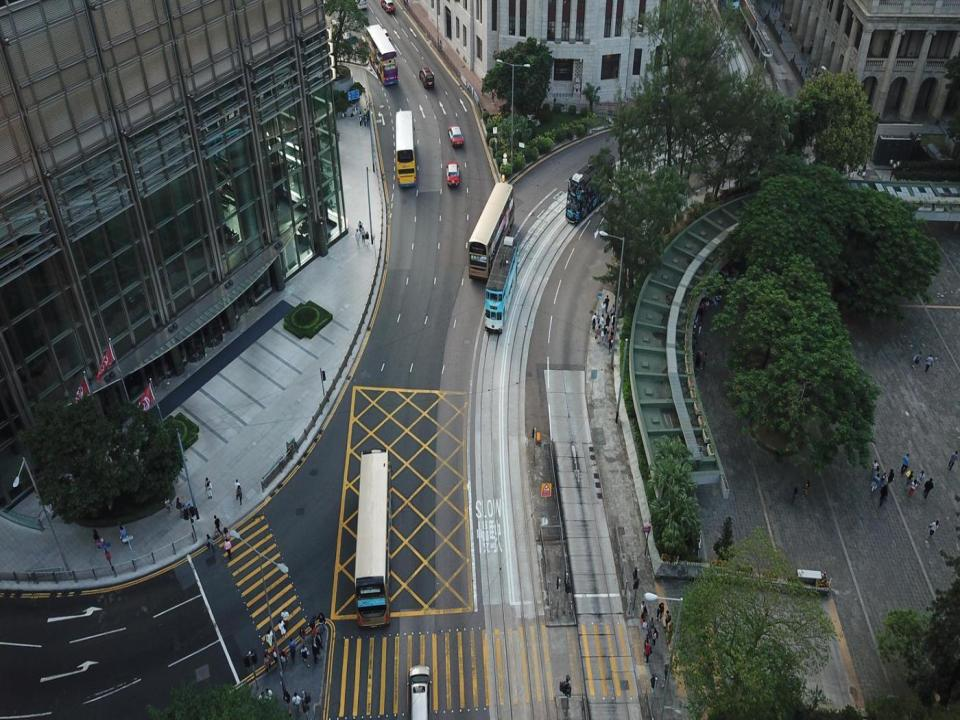bus: (355, 450, 390, 628), (468, 182, 514, 278), (485, 236, 518, 334), (568, 154, 614, 222), (366, 24, 398, 84), (395, 112, 416, 188)
car: (407, 663, 432, 719), (448, 124, 464, 147), (446, 161, 460, 186), (420, 66, 434, 88), (380, 0, 396, 14), (378, 27, 389, 43), (355, 0, 368, 10)
